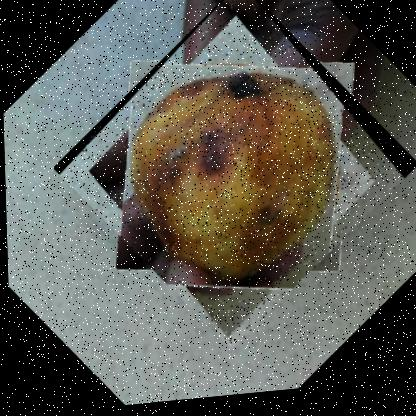guava_rotten: (47, 0, 415, 369)
